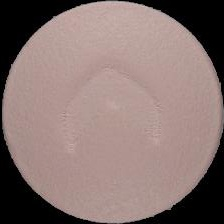54868-5627: (0, 0, 224, 224)
